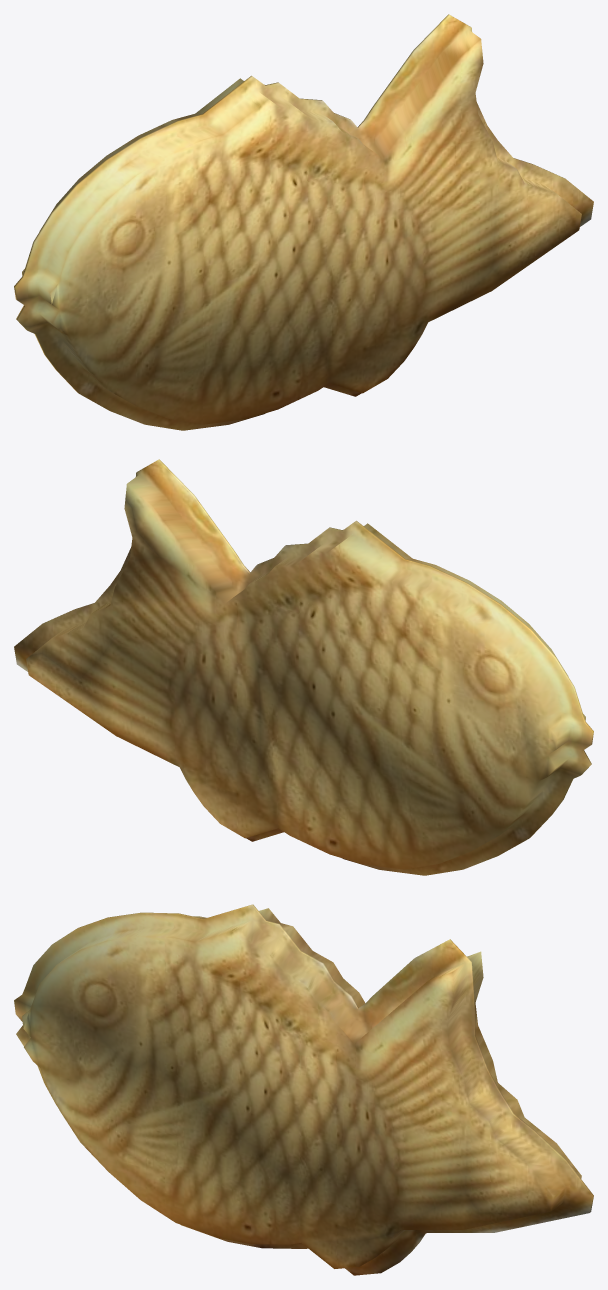
The model's file is taiyaki.dae.
The picture shows the model from 3 angles, top to bottom: view 1: azimuth 30°, elevation 25°; view 2: azimuth 150°, elevation 25°; view 3: azimuth 330°, elevation 25°; orthographic projection.
Parts seen in each view (by area): view 1: Circle; view 2: Circle; view 3: Circle.
Part boxes in pixels (left/top/right/bottom): Circle: left=14, top=14, right=593, bottom=430; Circle: left=14, top=459, right=593, bottom=875; Circle: left=14, top=904, right=593, bottom=1275.
Size of the model in its own units: 4.59 by 2.72 by 0.3904.
1 material, 1 textured.
